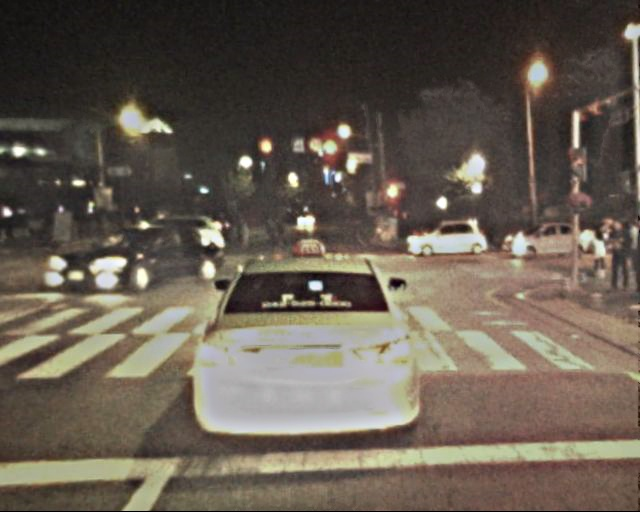person: (603, 221, 633, 295), (591, 233, 610, 280), (263, 215, 286, 249), (231, 211, 247, 251), (215, 218, 228, 250)
